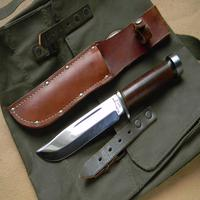knife: (35, 54, 185, 167)
